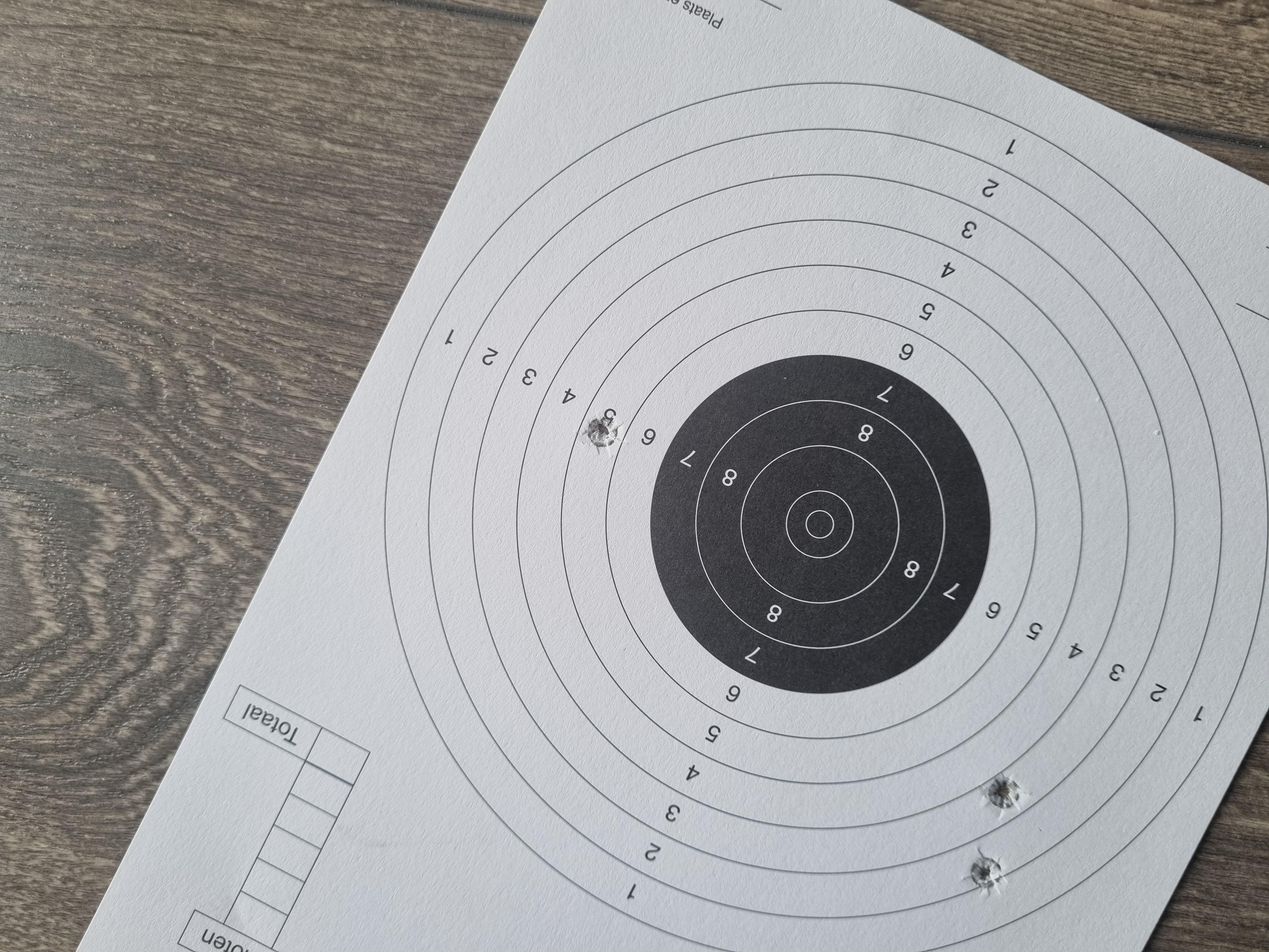hole: (76, 727, 138, 753), (664, 437, 713, 465), (190, 741, 240, 766)
